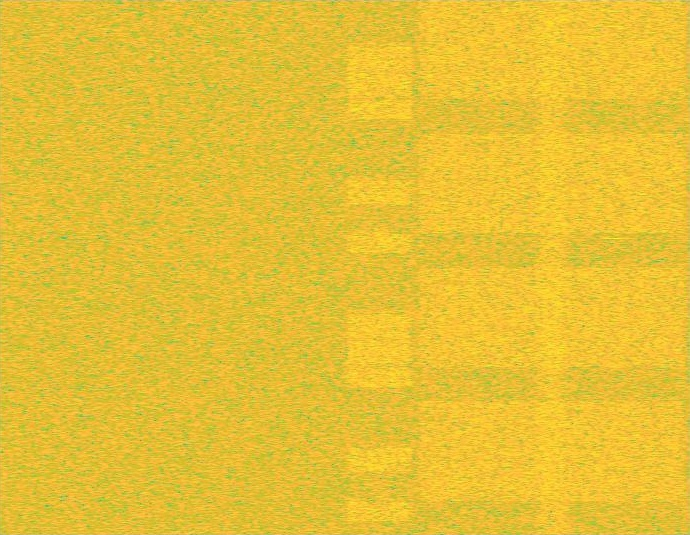5G: (414, 0, 689, 534)
DSSS: (533, 0, 571, 534)
LTE: (345, 0, 414, 534)
Radar: (606, 0, 620, 534)
